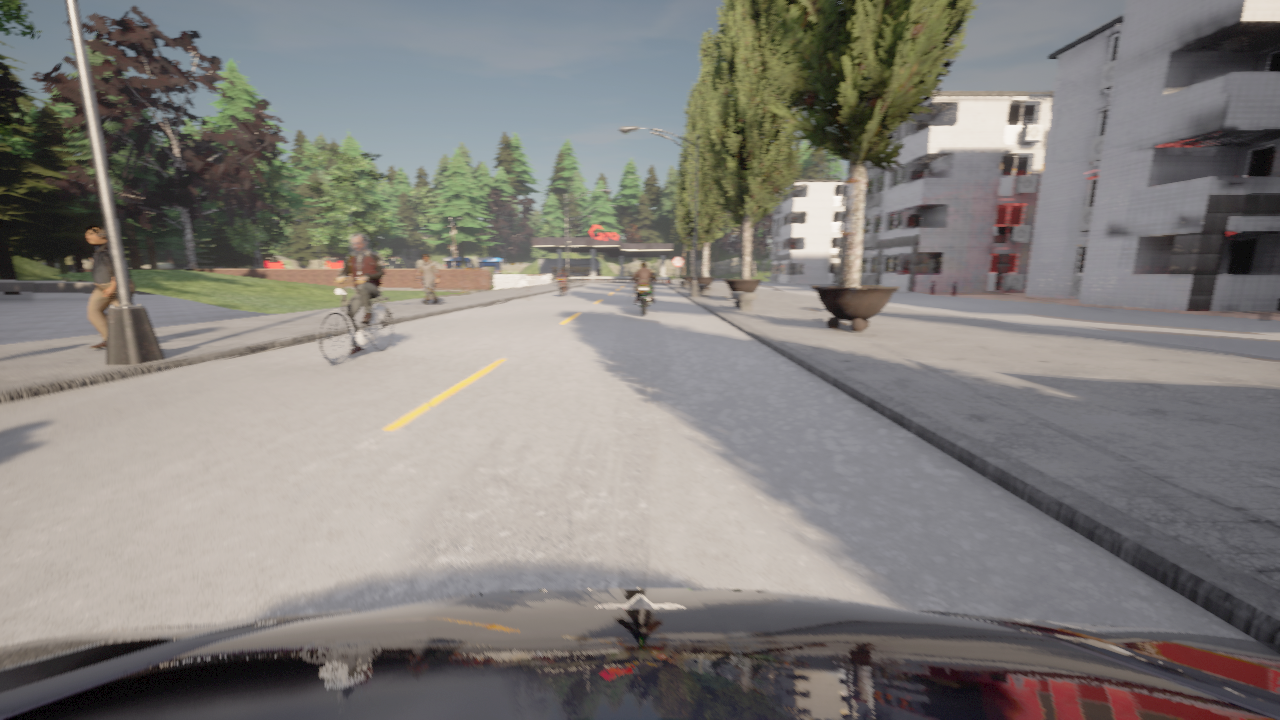cyclist: (0, 588, 1279, 719), (319, 279, 392, 364), (631, 277, 656, 314), (557, 274, 567, 296), (582, 274, 585, 275), (652, 273, 653, 274)
pedestrian: (86, 225, 135, 348), (416, 254, 438, 303)
